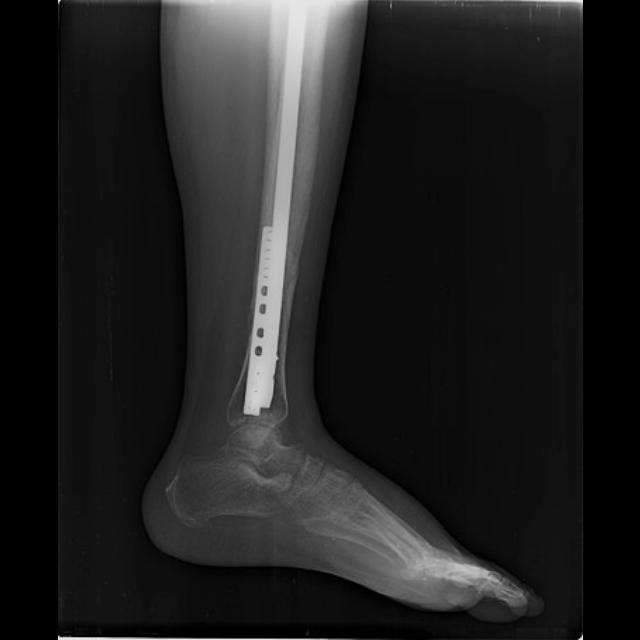Fracture: (280, 243, 303, 314), (244, 276, 258, 351)
